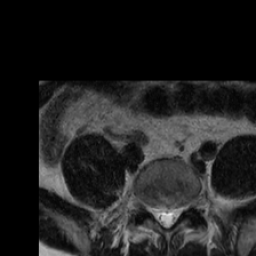CCS_normal: (162, 197, 171, 235)
LFS_stenosis: (180, 193, 188, 223)
LLS_normal: (171, 197, 180, 231)
RFS_normal: (143, 192, 153, 223)
RLS_normal: (153, 198, 162, 230)
